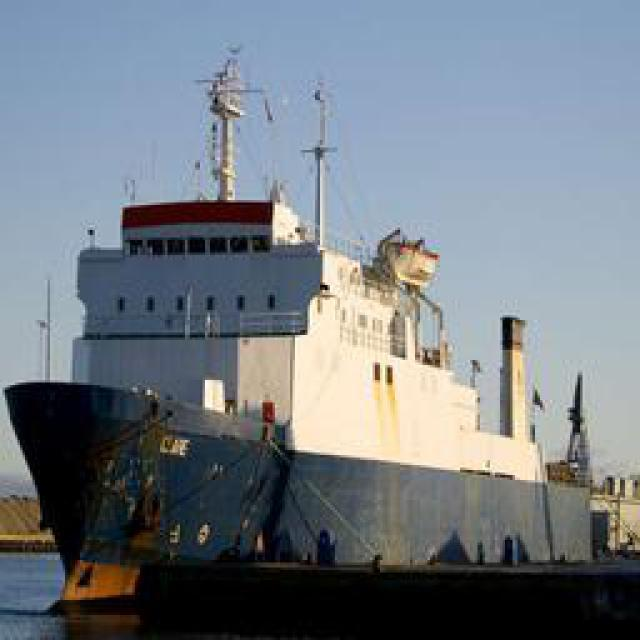Ship: (12, 15, 602, 618)
